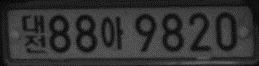0: (214, 11, 238, 51)
2: (188, 12, 211, 52)
8: (161, 12, 184, 51), (74, 14, 97, 52), (48, 14, 70, 53)
9: (134, 13, 157, 51)
대전_V: (19, 13, 47, 54)
아: (100, 14, 124, 49)
